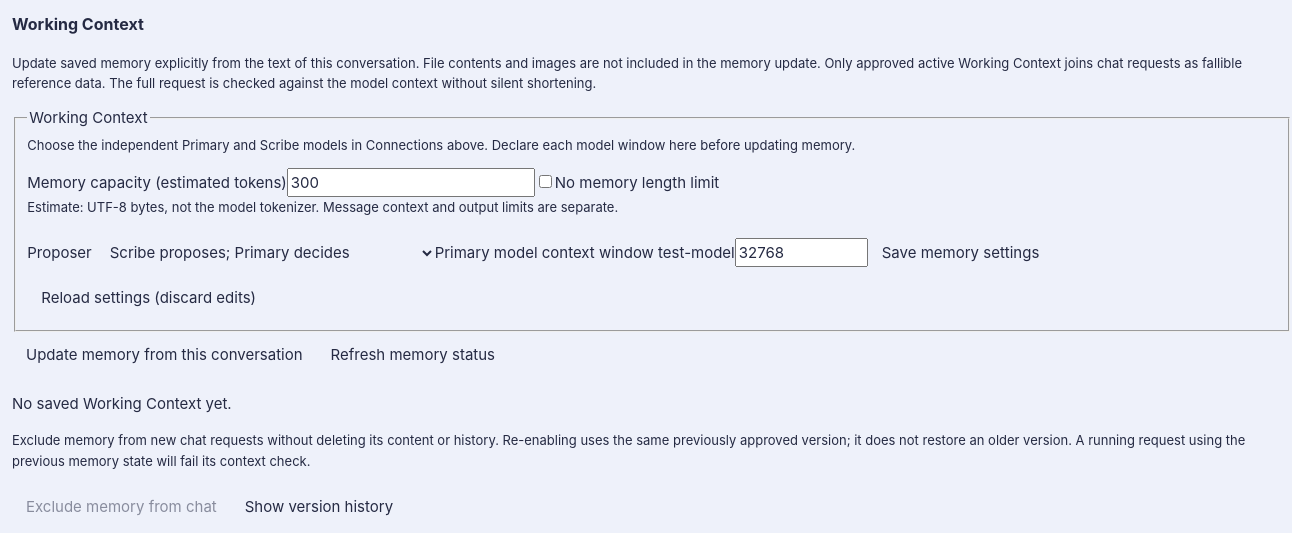
Test case: automatic mode requires configured independent Scribe
Select "Scribe proposes; Primary decides" in the dropdown labelled "Proposer" at (263, 253), box [92,231,435,275]
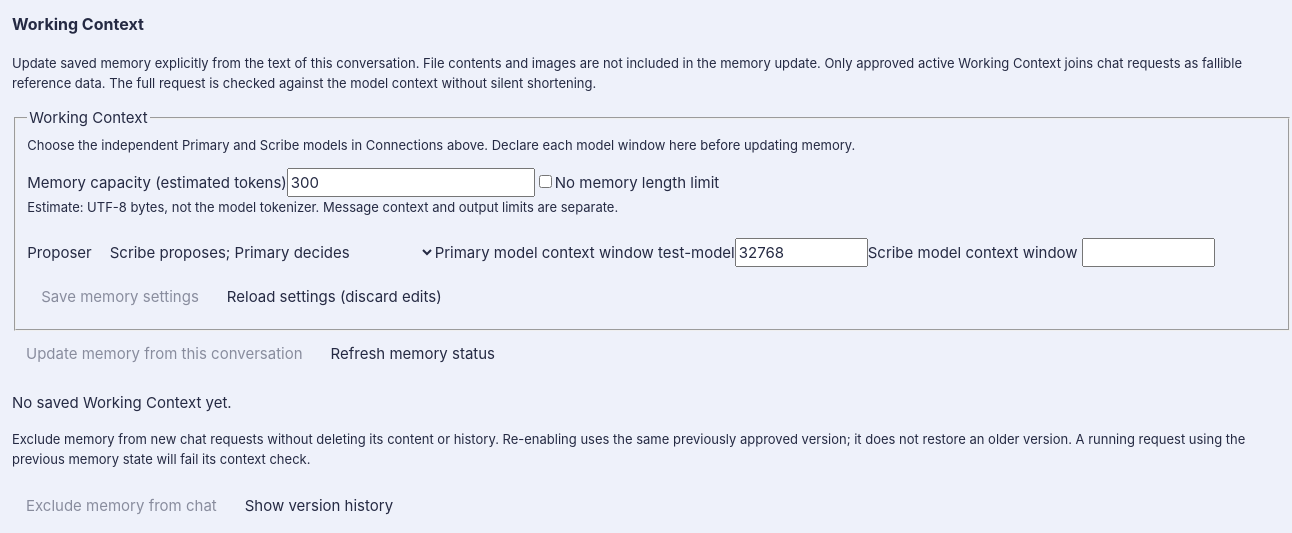
Now the button "Save memory settings" is disabled, box [27,274,213,319]
Now the text "Scribe model context window" is shown, box [868,243,1215,262]
